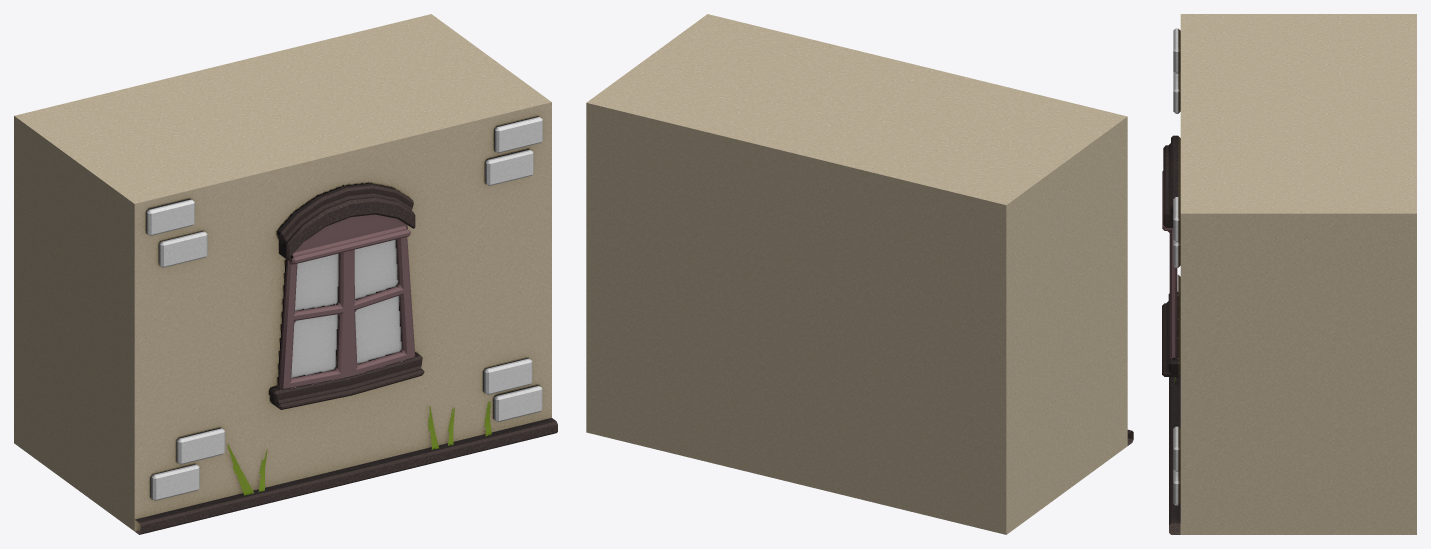
The model's file is house_window1_LOD0.fbx.
3 renders of one model, left to right at view 1: azimuth 30°, elevation 25°; view 2: azimuth 150°, elevation 25°; view 3: azimuth 270°, elevation 25°, orthographic. The views are drawn at different scales.
Visible parts, largest first — view 1: house_window1_LOD0; view 2: house_window1_LOD0; view 3: house_window1_LOD0.
Boxes of the visible parts, x1=… form: house_window1_LOD0: x1=14, y1=14, x2=557, y2=534; house_window1_LOD0: x1=586, y1=14, x2=1133, y2=534; house_window1_LOD0: x1=1162, y1=14, x2=1416, y2=534.
Bounding box in the file's own units: 400 × 300 × 216.
